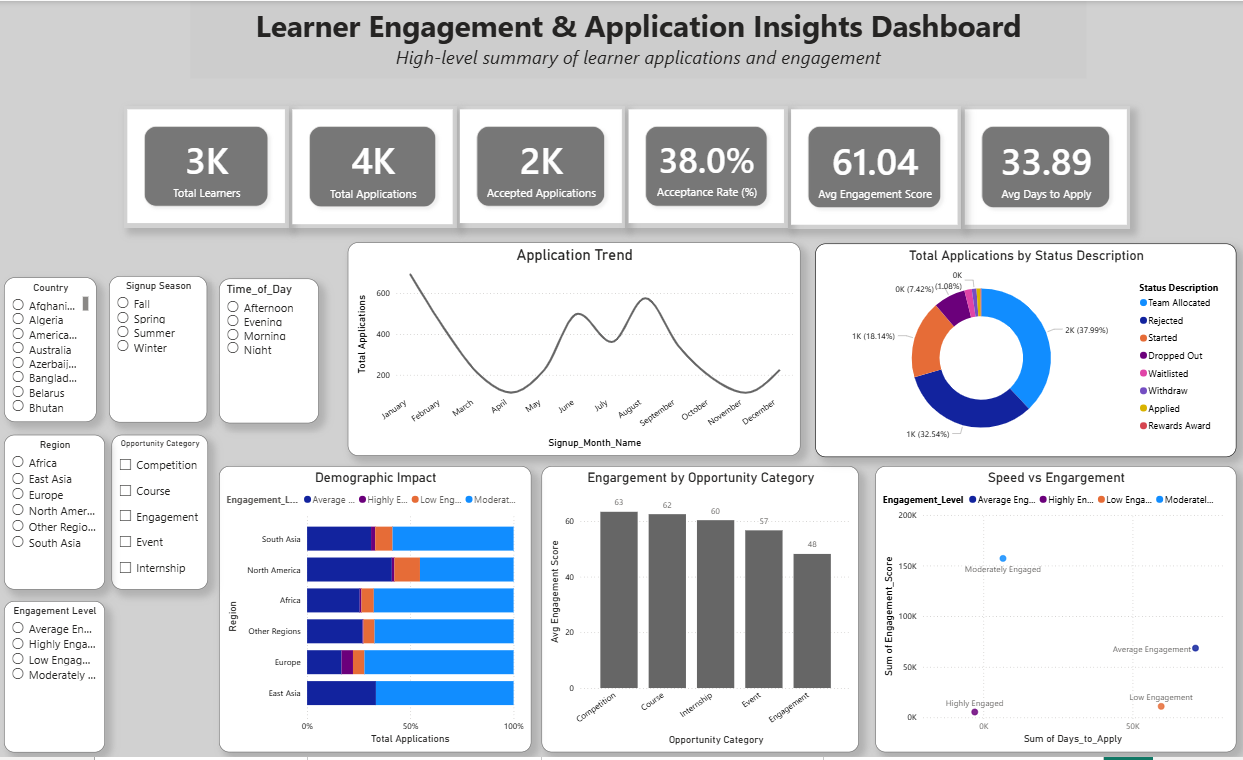

What the dashboard file says about the page in this screenshot:
{"tool":"powerbi","page":{"name":"Overview  & Key Metrics","canvas":[1800,1090],"ordinal":0},"visuals":[{"type":"cardVisual","fields":{"Data":["Dataset.Total Learners"]},"box":[25.2,137.1,238.1,175.3],"z":0},{"type":"cardVisual","fields":{"Data":["Dataset.Total Applications"]},"box":[332.8,137.1,241.4,175.3],"z":1000},{"type":"cardVisual","fields":{"Data":["Dataset.Accepted Applications"]},"box":[653.5,137.1,244.7,175.3],"z":2000},{"type":"cardVisual","fields":{"Data":["Dataset.Acceptance Rate (%)"]},"box":[952.8,137.1,234.8,175.3],"z":3000},{"type":"cardVisual","fields":{"Data":["Dataset.Avg Days to Apply"]},"box":[1537.7,135.6,243.1,175.3],"z":4000},{"type":"cardVisual","fields":{"Data":["Dataset.Avg Engagement Score"]},"box":[1236.8,135.6,249.7,175.3],"z":5000},{"type":"lineChart","title":"Application Trend","fields":{"Category":["Dataset.Signup_Month_Name"],"Y":["Dataset.Total Applications"]},"box":[502.8,385.7,652.4,308.2],"z":6000},{"type":"clusteredColumnChart","title":"Engargement by Opportunity Category","fields":{"Category":["Dataset.Opportunity Category"],"Y":["Dataset.Avg Engagement Score"]},"box":[783.1,742.7,458,327.4],"z":7000},{"type":"donutChart","fields":{"Category":["Dataset.Status Description"],"Y":["Dataset.Total Applications"]},"box":[1176.9,385.7,607.4,308.2],"z":8000},{"type":"scatterChart","title":"Speed vs Engargement","fields":{"X":["Sum(Dataset.Days_to_Apply)"],"Y":["Sum(Dataset.Engagement_Score)"],"Series":["Dataset.Engagement_Level"]},"box":[1264.3,742.7,520.8,327.4],"z":9000},{"type":"hundredPercentStackedBarChart","title":"Demographic Impact","fields":{"Category":["Dataset.Region"],"Y":["Dataset.Total Applications"],"Series":["Dataset.Engagement_Level"]},"box":[316.8,742.7,451.4,327.4],"z":10000},{"type":"listSlicer","fields":{"Values":["Dataset.Opportunity Category"]},"box":[162.6,626,138.9,223.2],"z":11000},{"type":"listSlicer","fields":{"Values":["Dataset.Country"]},"box":[7.2,397.7,133.4,209.4],"z":12000},{"type":"listSlicer","fields":{"Values":["Dataset.Region"]},"box":[7.2,626,145.5,223.2],"z":13000},{"type":"listSlicer","title":"Engagement Level","fields":{"Values":["Dataset.Engagement_Level"]},"box":[7.2,865.7,145.5,218.3],"z":14000},{"type":"listSlicer","title":"Signup Season","fields":{"Values":["Dataset.Signup_Season"]},"box":[159.1,395.7,141.7,211.5],"z":15000},{"type":"listSlicer","fields":{"Values":["Dataset.Time_of_Day"]},"box":[319.3,401.8,143.7,209.4],"z":16000},{"type":"textbox","box":[252.3,0,1292.2,111.7],"z":17000}]}

Visuals, with their boxes in screenshot pixels (x1, y1, x2, y2), scaled from the page's 1800x1090 canvas onto the 1243x760 screenshot:
cardVisual - Dataset.Total Learners: box=[17, 96, 182, 218]
cardVisual - Dataset.Total Applications: box=[230, 96, 397, 218]
cardVisual - Dataset.Accepted Applications: box=[451, 96, 620, 218]
cardVisual - Dataset.Acceptance Rate (%): box=[658, 96, 820, 218]
cardVisual - Dataset.Avg Days to Apply: box=[1062, 95, 1230, 217]
cardVisual - Dataset.Avg Engagement Score: box=[854, 95, 1027, 217]
"Application Trend" lineChart: box=[347, 269, 798, 484]
"Engargement by Opportunity Category" clusteredColumnChart: box=[541, 518, 857, 746]
donutChart - Dataset.Status Description x Dataset.Total Applications: box=[813, 269, 1232, 484]
"Speed vs Engargement" scatterChart: box=[873, 518, 1233, 746]
"Demographic Impact" hundredPercentStackedBarChart: box=[219, 518, 530, 746]
listSlicer - Dataset.Opportunity Category: box=[112, 436, 208, 592]
listSlicer - Dataset.Country: box=[5, 277, 97, 423]
listSlicer - Dataset.Region: box=[5, 436, 105, 592]
"Engagement Level" listSlicer: box=[5, 604, 105, 756]
"Signup Season" listSlicer: box=[110, 276, 208, 423]
listSlicer - Dataset.Time_of_Day: box=[220, 280, 320, 426]
textbox: box=[174, 0, 1067, 78]
